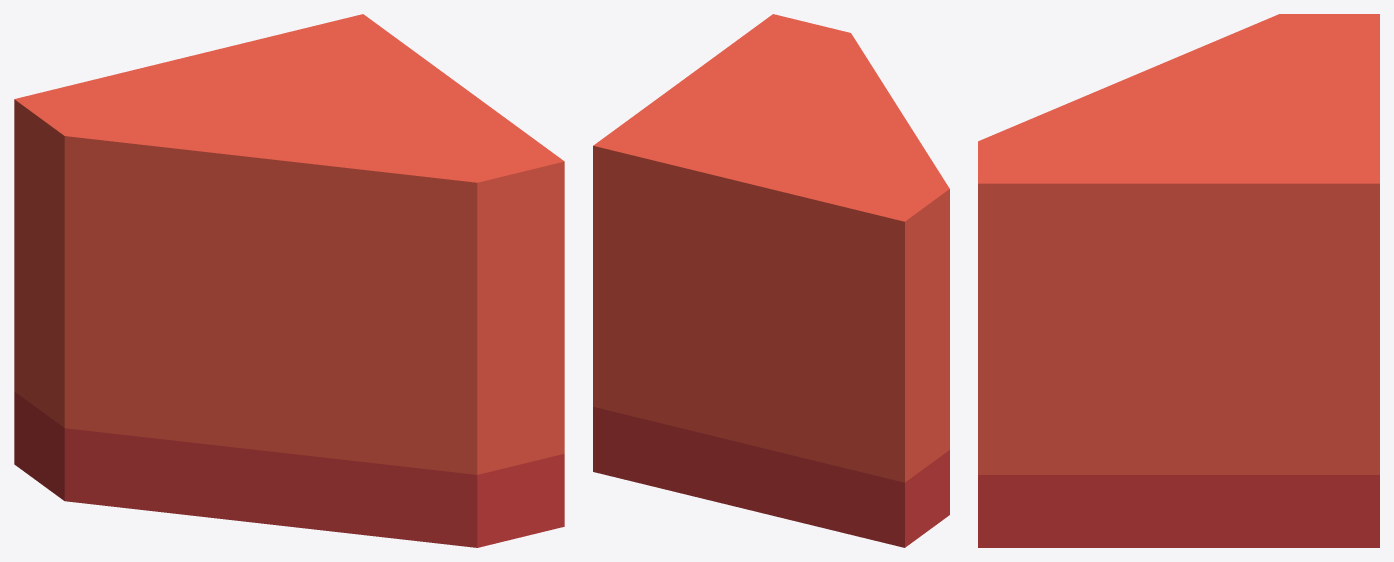
Rendered from building_block2.obj.
3 views of the same model, side by side, from view 1: azimuth 30°, elevation 25°; view 2: azimuth 150°, elevation 25°; view 3: azimuth 270°, elevation 25° (orthographic). The views are drawn at different scales.
Parts seen in each view (by area): view 1: mergedBlocks; view 2: mergedBlocks; view 3: mergedBlocks.
Part boxes in pixels (<box>): mergedBlocks: <box>14,14,564,547</box>; mergedBlocks: <box>593,14,949,547</box>; mergedBlocks: <box>978,14,1379,547</box>.
Size of the model in its own units: 1 by 1 by 1.
